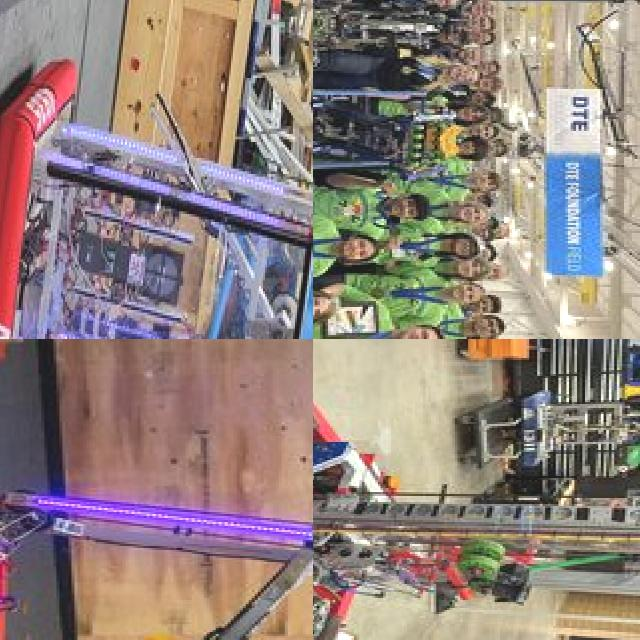FRC-Robots: (0, 51, 313, 339), (313, 373, 640, 640), (0, 446, 313, 640), (313, 70, 487, 228), (313, 0, 497, 59)
